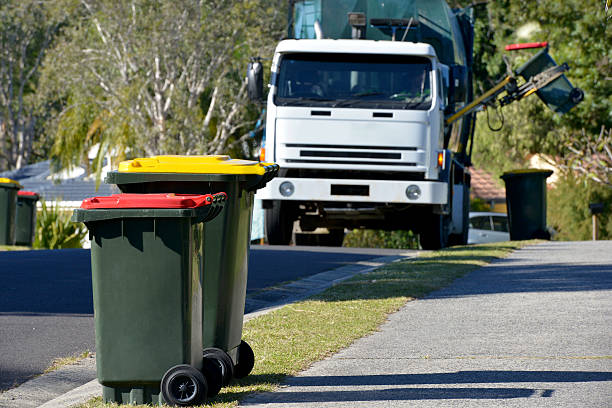Truck: (244, 0, 482, 250)
